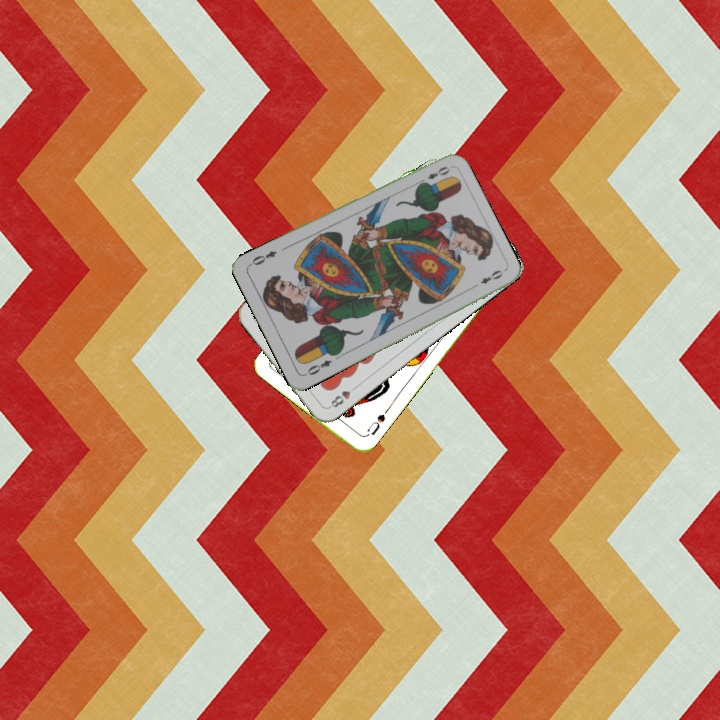EO: (415, 162, 453, 187), (301, 356, 334, 378)
H8: (325, 381, 360, 411)
SU: (361, 405, 391, 439)
